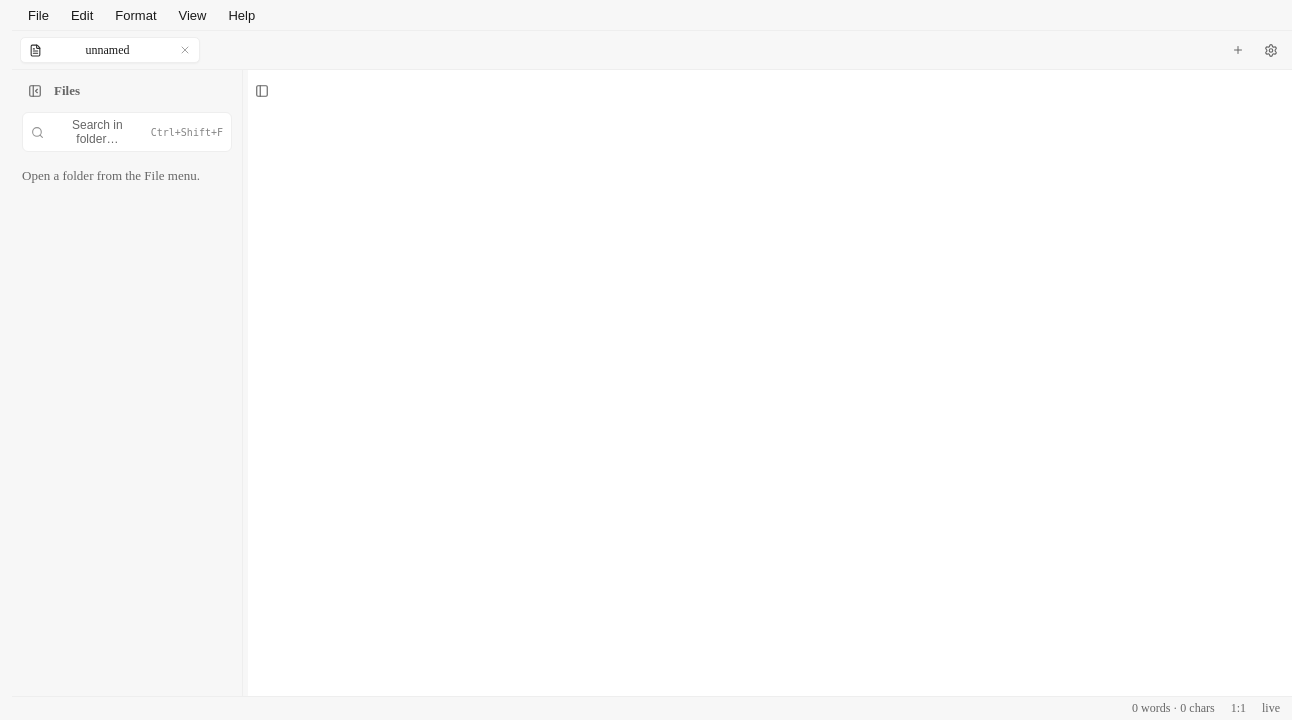
Test: FileTree sidebar menu › 重命名成功后刷新失败，不保留可重试输入或旧文件名
Press o
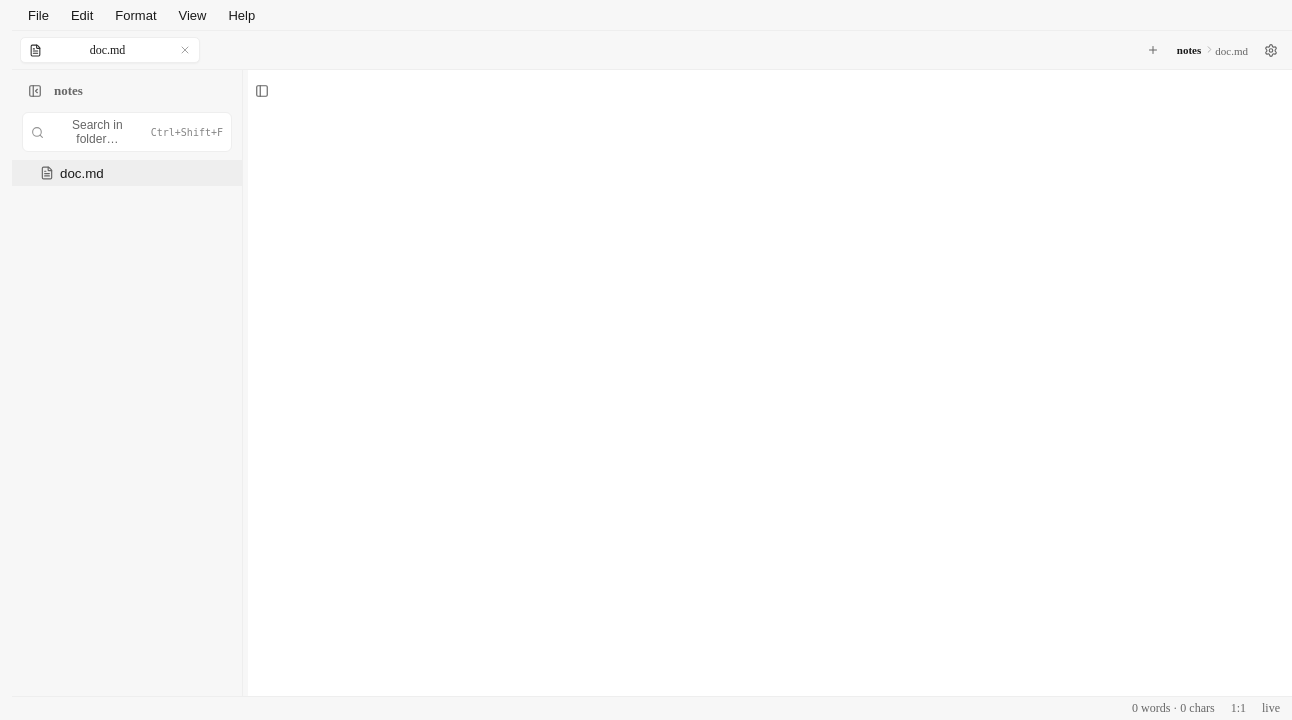
Expected: the 1st text "doc.md" is shown, [90,42,125,56]
Right-click the button "doc.md": (127, 173) [12,160,242,186]
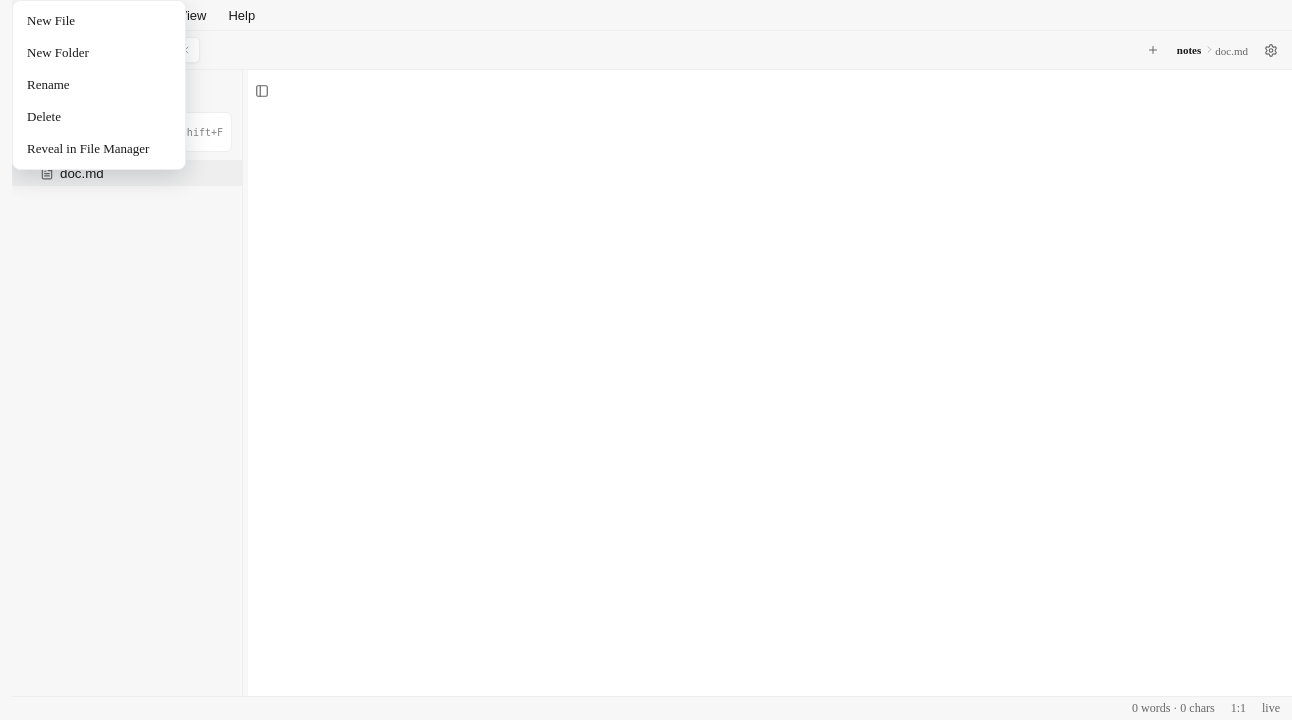
Expected: the menu is shown, [12,0,186,170]
Click the menu item "Rename": (99, 85) [19,71,179,99]
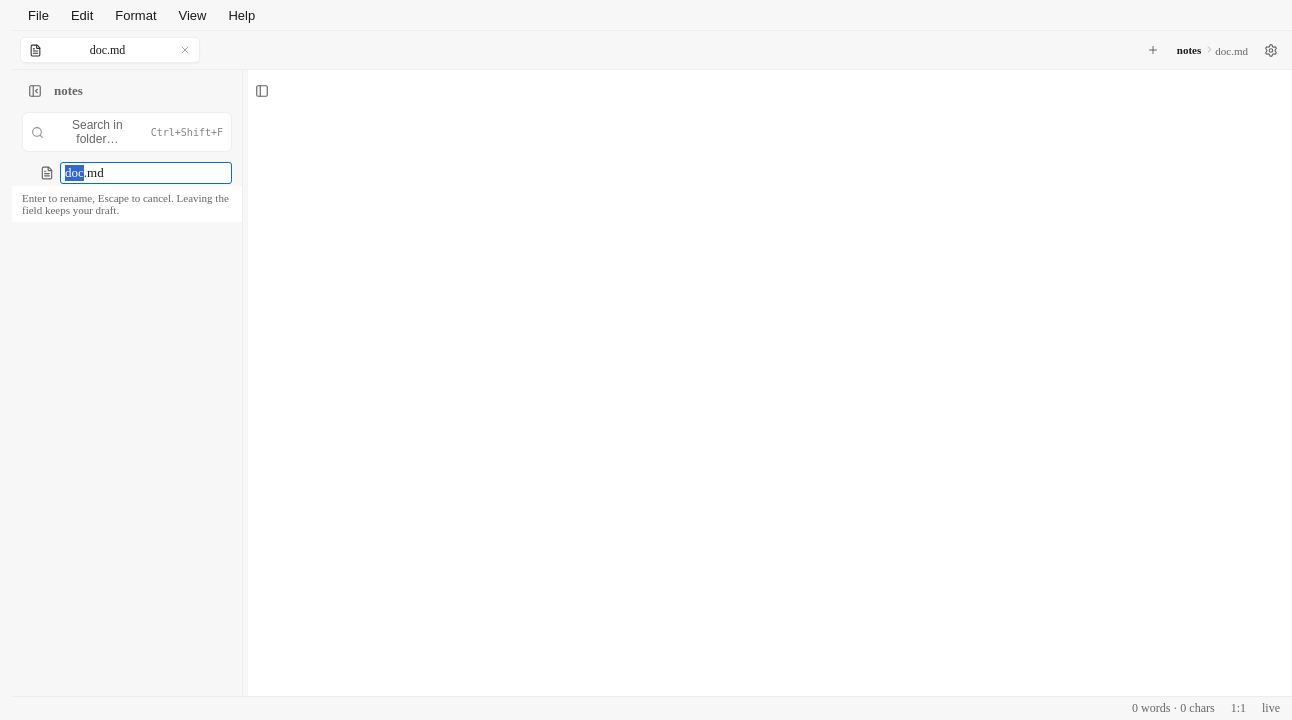
Replace the text in the field named "Rename" with "renamed": (146, 173) [60,162,232,184]
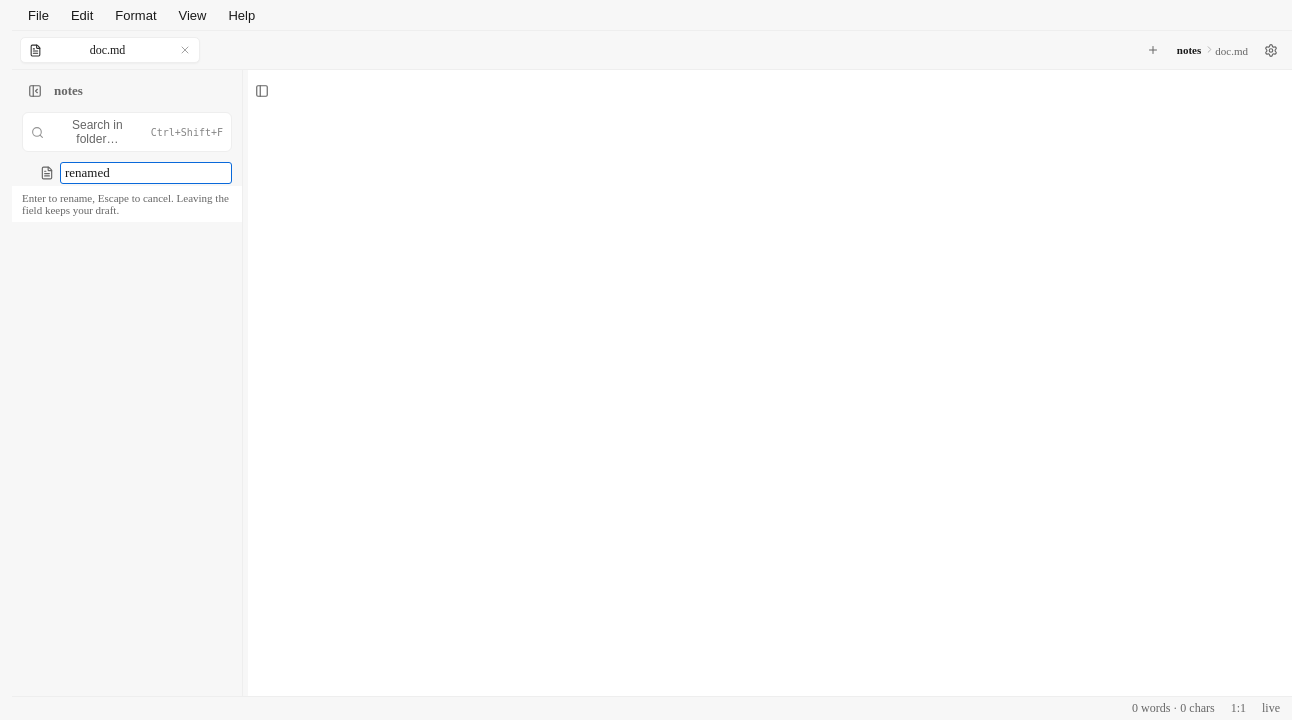
Press Enter in the field named "Rename", box [60,162,232,184]
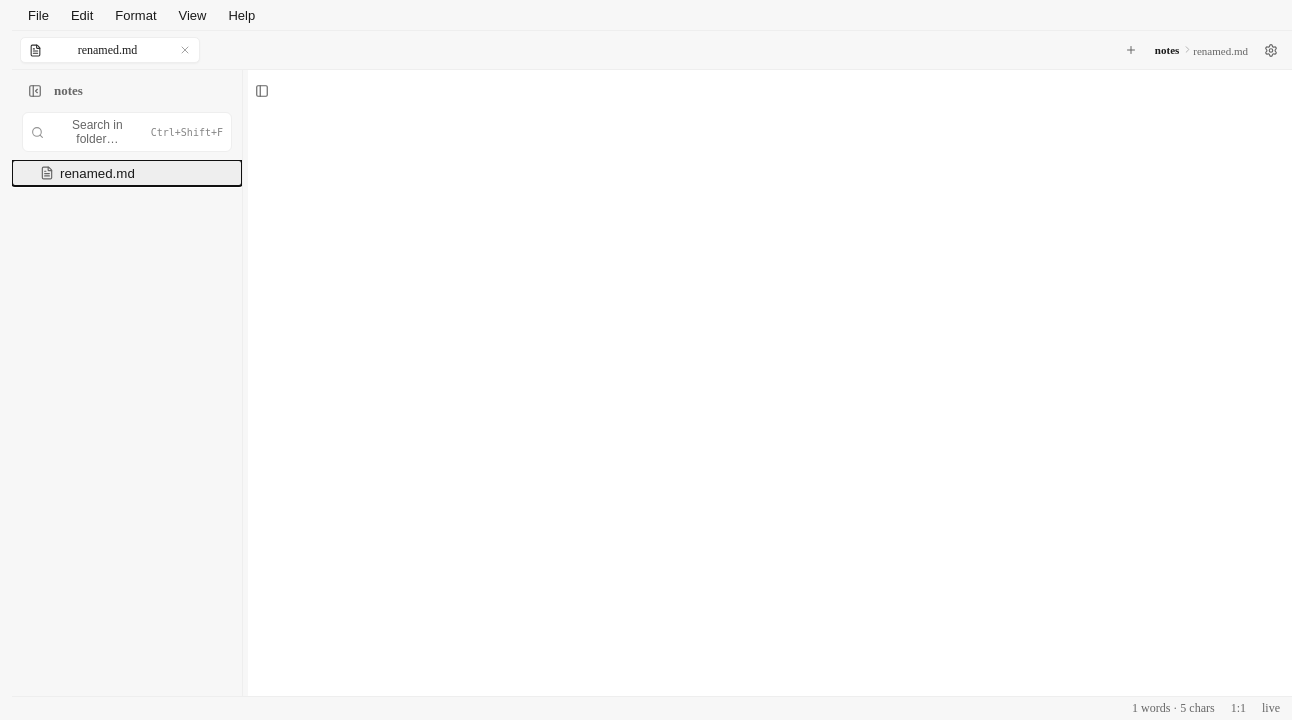
Expected: the 3rd text "renamed.md" is shown, [60,166,135,180]
